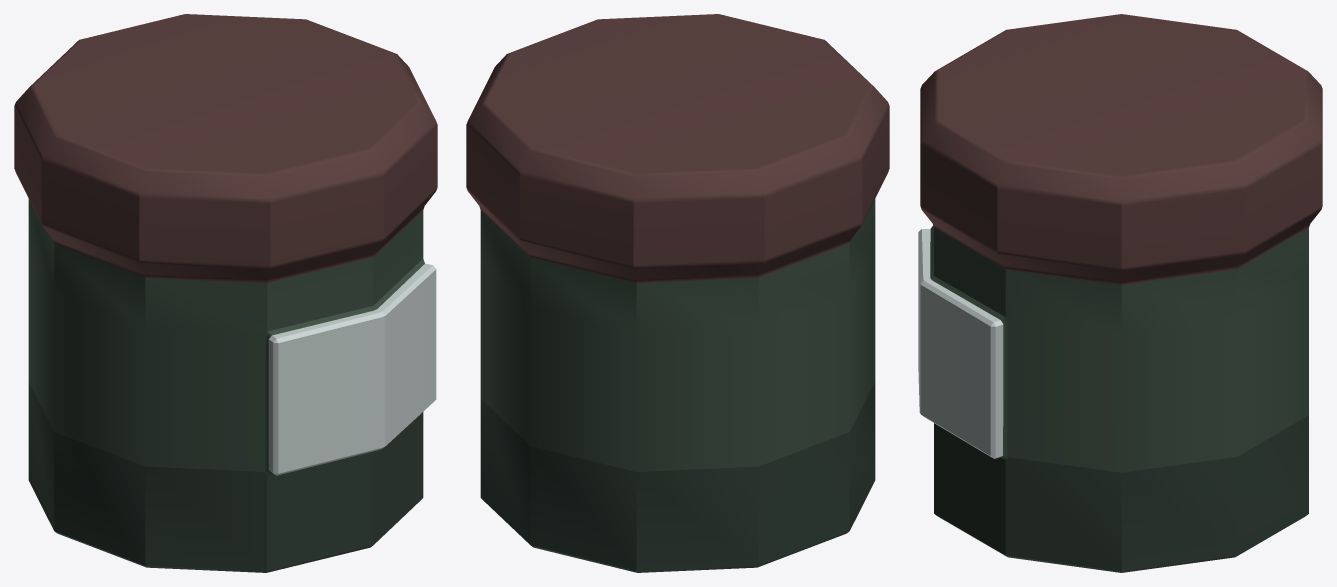
The model's file is jar.fbx.
3 views of the same model, side by side, from view 1: azimuth 30°, elevation 25°; view 2: azimuth 150°, elevation 25°; view 3: azimuth 270°, elevation 25° (orthographic).
Parts seen in each view (by area): view 1: pCylinder7; view 2: pCylinder7; view 3: pCylinder7.
Boxes of the visible parts, x1=… form: pCylinder7: x1=14, y1=14, x2=437, y2=572; pCylinder7: x1=466, y1=14, x2=889, y2=572; pCylinder7: x1=918, y1=14, x2=1322, y2=572.
Size of the model in its own units: 1.05 by 1.08 by 1.
